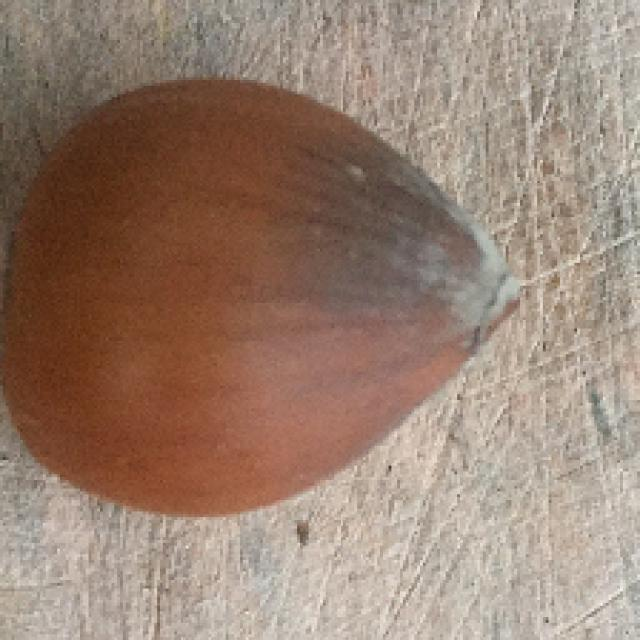damagedHazelnut: (0, 63, 526, 531)
